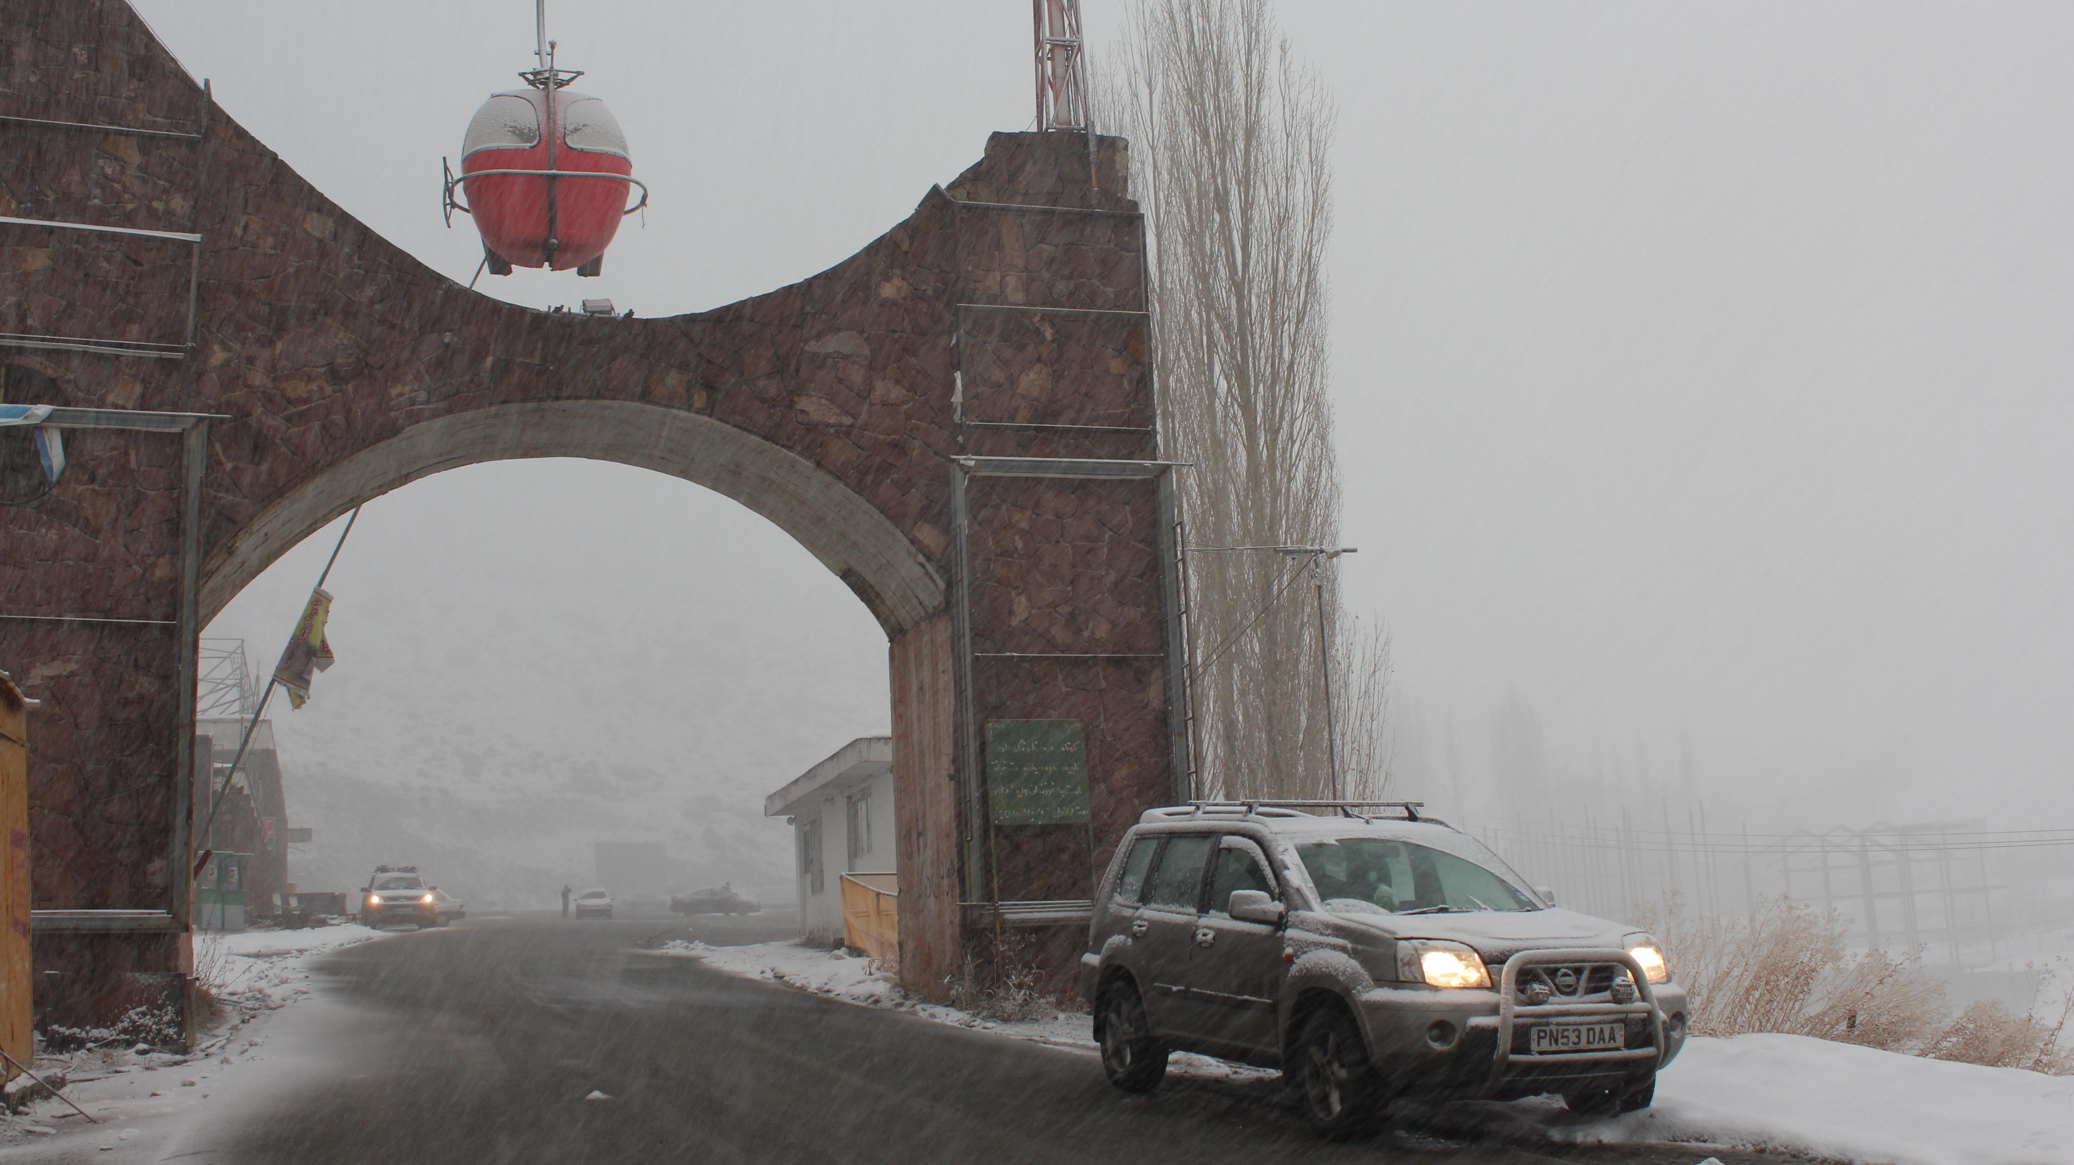bench: (839, 870, 902, 978), (563, 888, 614, 923)
bird: (450, 31, 643, 286)
boat: (560, 887, 613, 922)
bus: (1078, 811, 1685, 1134), (360, 869, 467, 936), (563, 888, 614, 923)
car: (1062, 777, 1668, 1105), (1174, 883, 1689, 1145), (1490, 939, 1690, 1112), (1570, 931, 1692, 1071), (1628, 936, 1692, 1078), (359, 870, 467, 934), (1649, 962, 1692, 1065), (359, 868, 433, 915), (394, 889, 465, 934), (348, 876, 401, 927), (268, 896, 331, 932), (362, 864, 424, 897), (294, 894, 349, 930), (564, 887, 614, 922), (643, 931, 712, 955), (297, 908, 359, 935), (271, 885, 309, 927)
motorcycle: (360, 869, 467, 936)
person: (1070, 773, 1676, 1106), (1355, 846, 1475, 918), (1298, 851, 1381, 915), (1332, 853, 1399, 911), (1392, 847, 1450, 915), (1442, 863, 1515, 915), (1412, 859, 1480, 915), (1370, 848, 1424, 914), (1291, 841, 1337, 911), (1325, 845, 1380, 902), (1434, 876, 1493, 917), (1466, 878, 1529, 916), (1365, 862, 1405, 913), (275, 883, 306, 929)
potted plant: (1077, 0, 1408, 853)
truck: (1063, 782, 1666, 1117), (201, 627, 322, 932), (359, 868, 467, 934), (255, 890, 349, 933), (359, 868, 433, 915), (362, 864, 424, 897), (294, 894, 349, 930), (563, 888, 614, 923)
